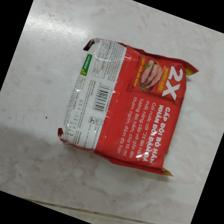3mien: (57, 38, 199, 179)
